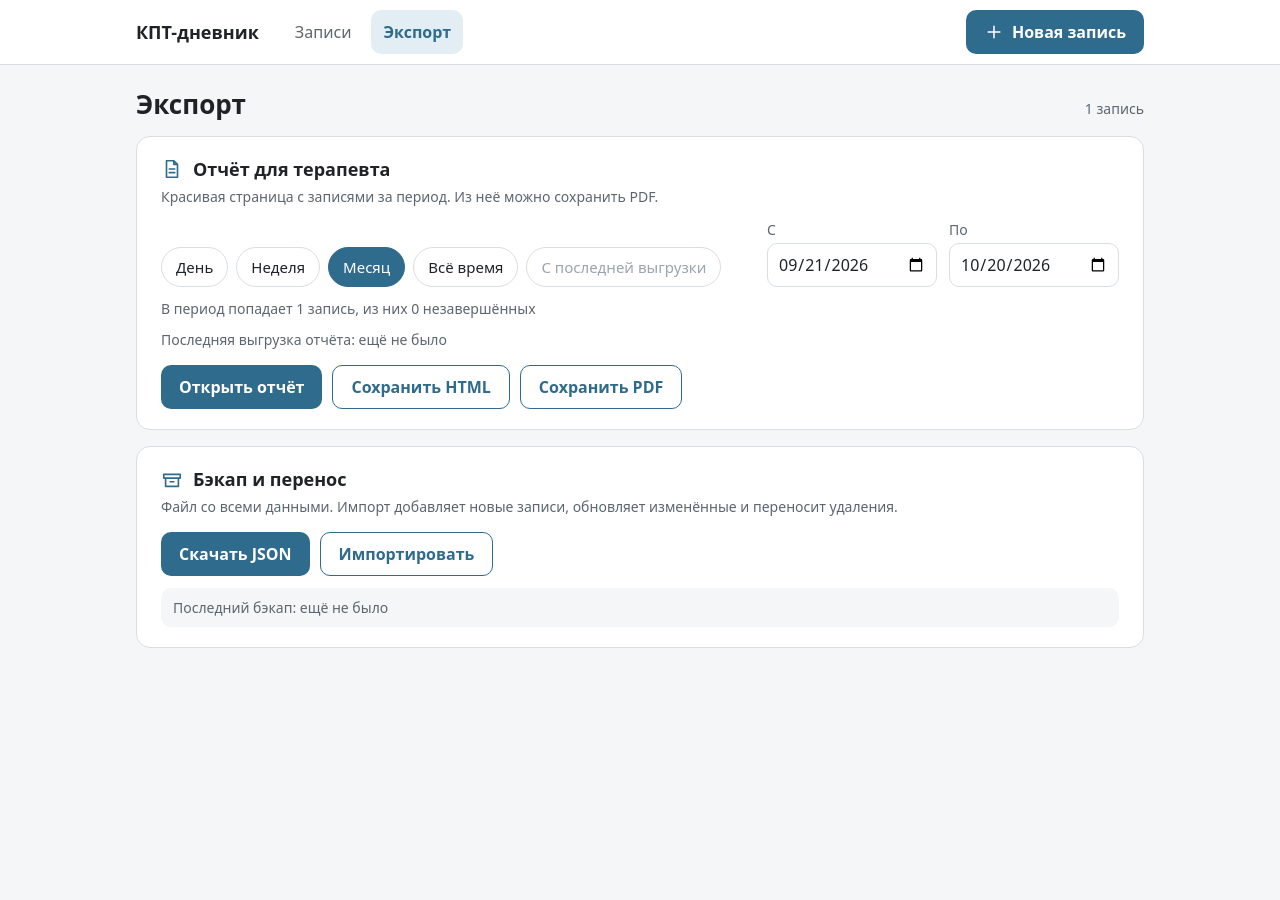
Test case: save html downloads and stamps export time
Click the button "Сохранить HTML": (421, 387) x1=332 y1=365 x2=510 y2=409
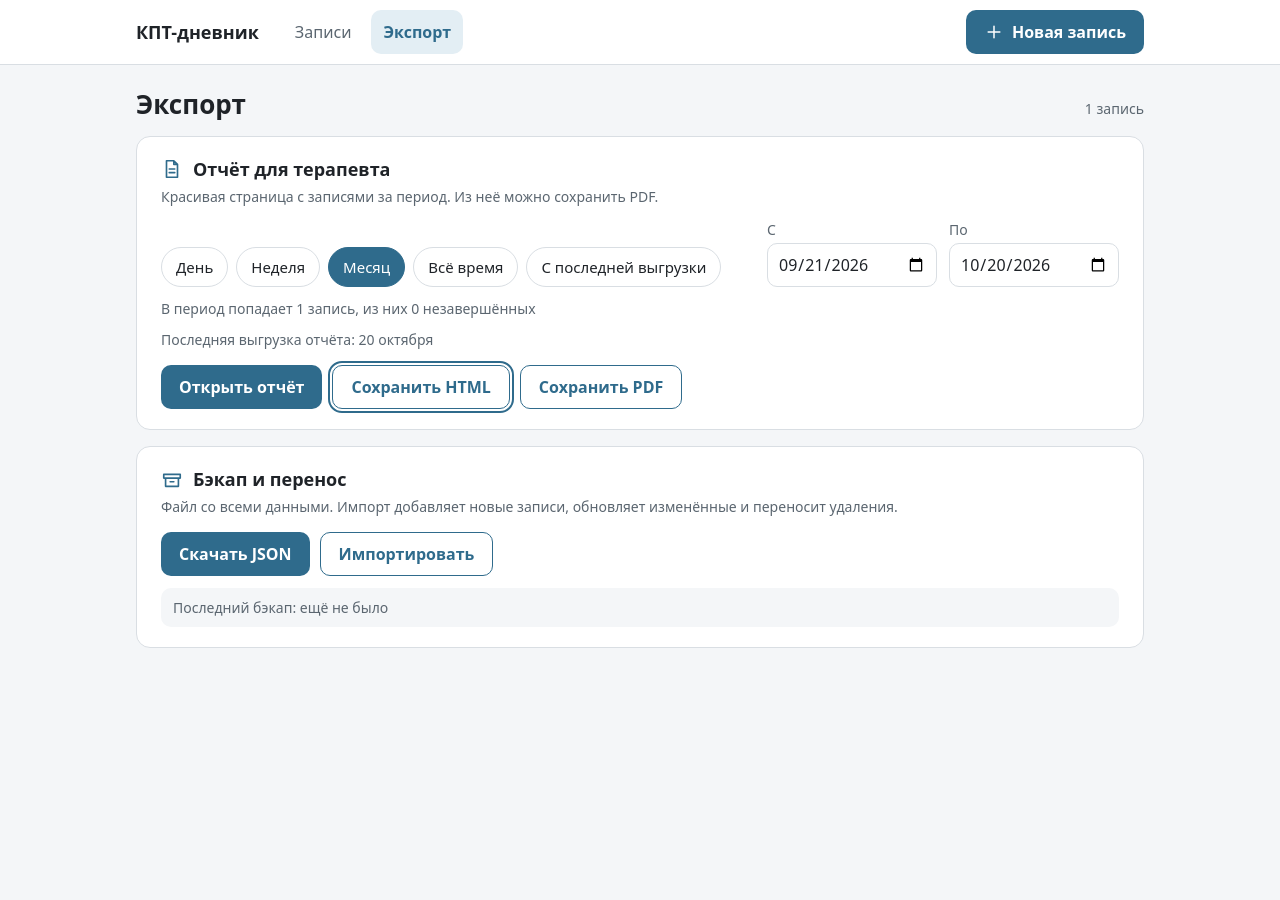
Check: the text "Последняя выгрузка отчёта: 20 октября" is shown, box x1=161 y1=330 x2=433 y2=349
Check: the button "С последней выгрузки" is enabled, box x1=526 y1=247 x2=721 y2=287
